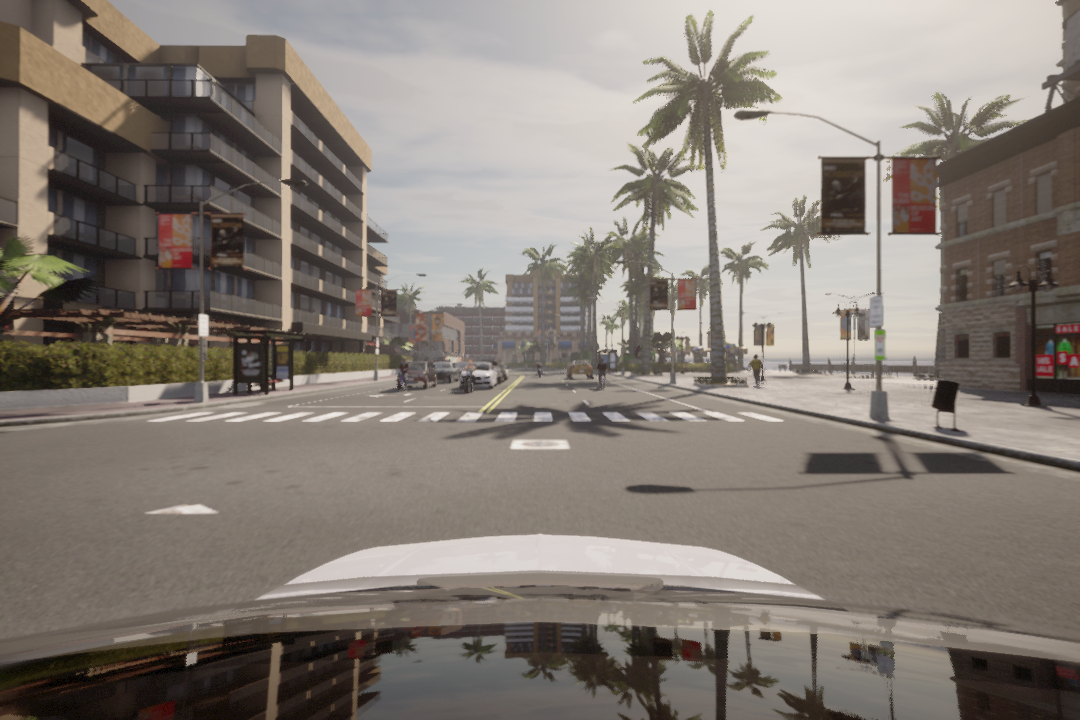walkside: (152, 407, 784, 427)
